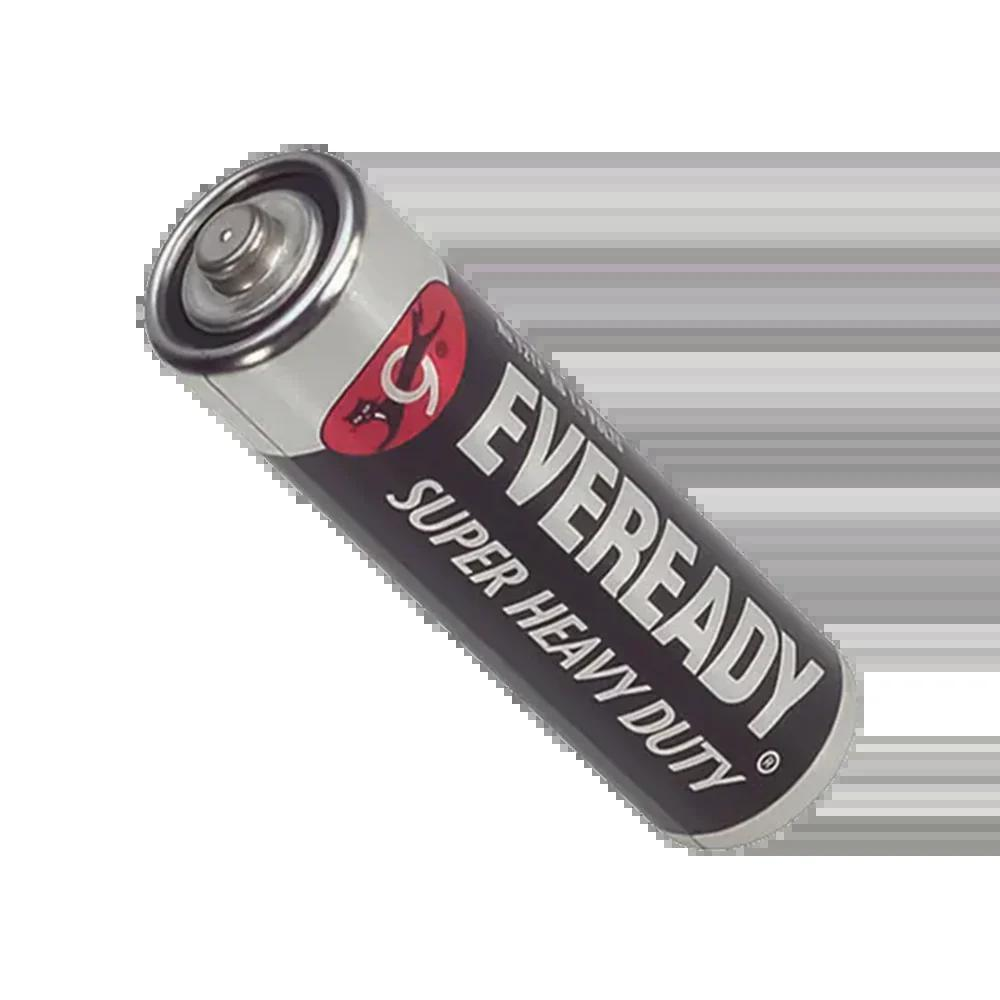AA: (137, 145, 868, 857)
